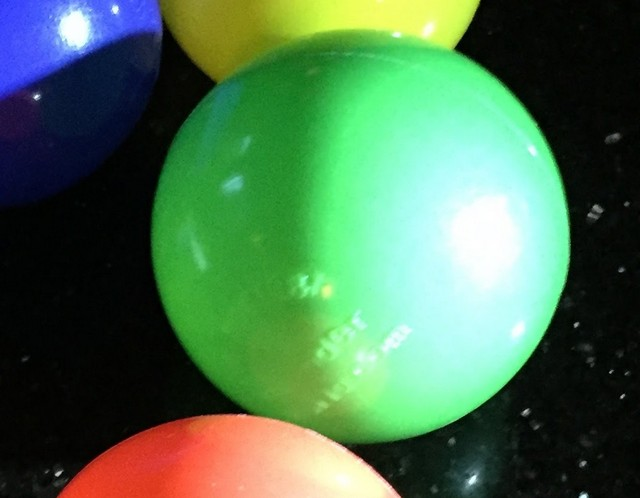Ball: (153, 33, 577, 438)
